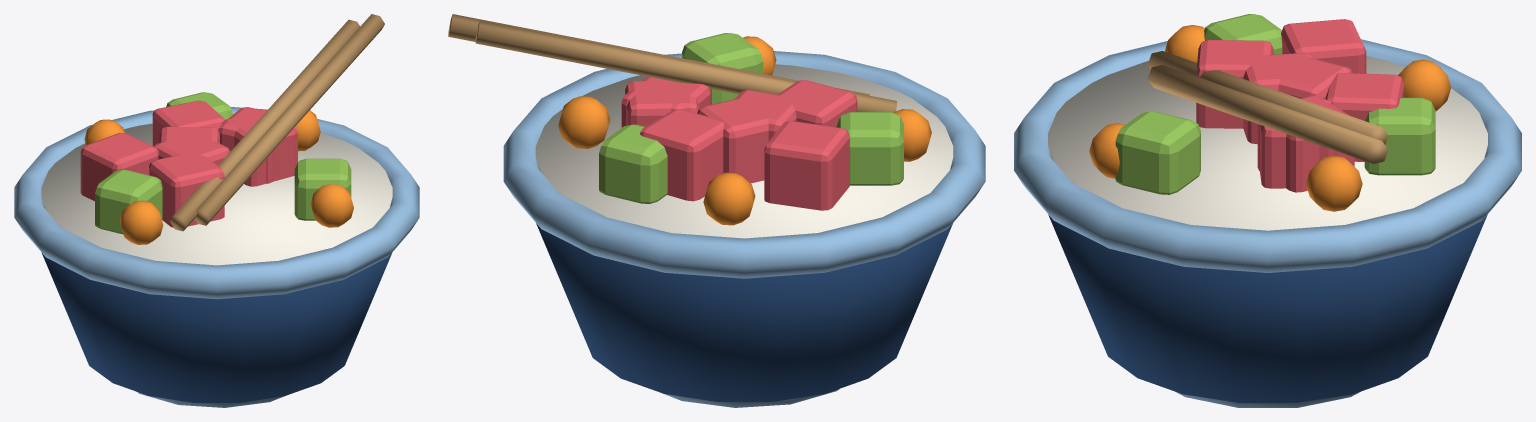
File: poke_bowl.glb
The picture shows the model from 3 angles, left to right: view 1: azimuth 30°, elevation 25°; view 2: azimuth 150°, elevation 25°; view 3: azimuth 270°, elevation 25°; orthographic projection. The views are drawn at different scales.
Parts seen in each view (by area): view 1: poke_bowl; view 2: poke_bowl; view 3: poke_bowl.
Boxes of the visible parts, left/top/right/bottom form: poke_bowl: left=14, top=14, right=419, bottom=407; poke_bowl: left=448, top=14, right=985, bottom=407; poke_bowl: left=1014, top=14, right=1521, bottom=407.
Bounding box in the file's own units: 1.18 × 0.7808 × 1.07.
